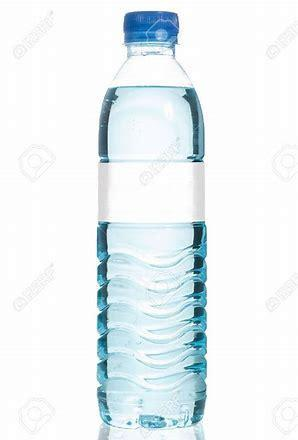plastic_bottle: (93, 6, 212, 428)
